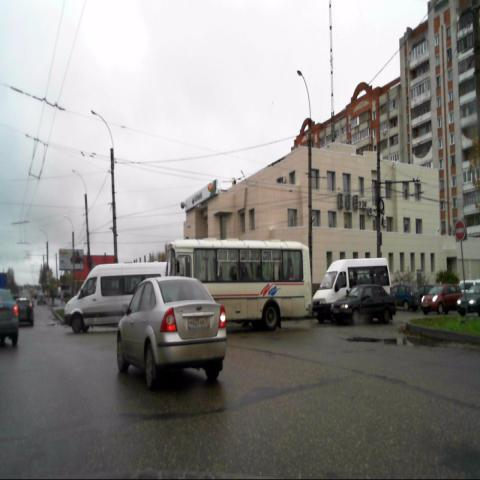3_1: (454, 220, 466, 241)
